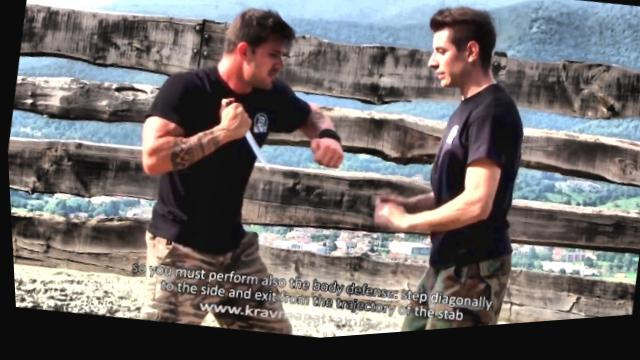knife: (206, 94, 283, 181)
